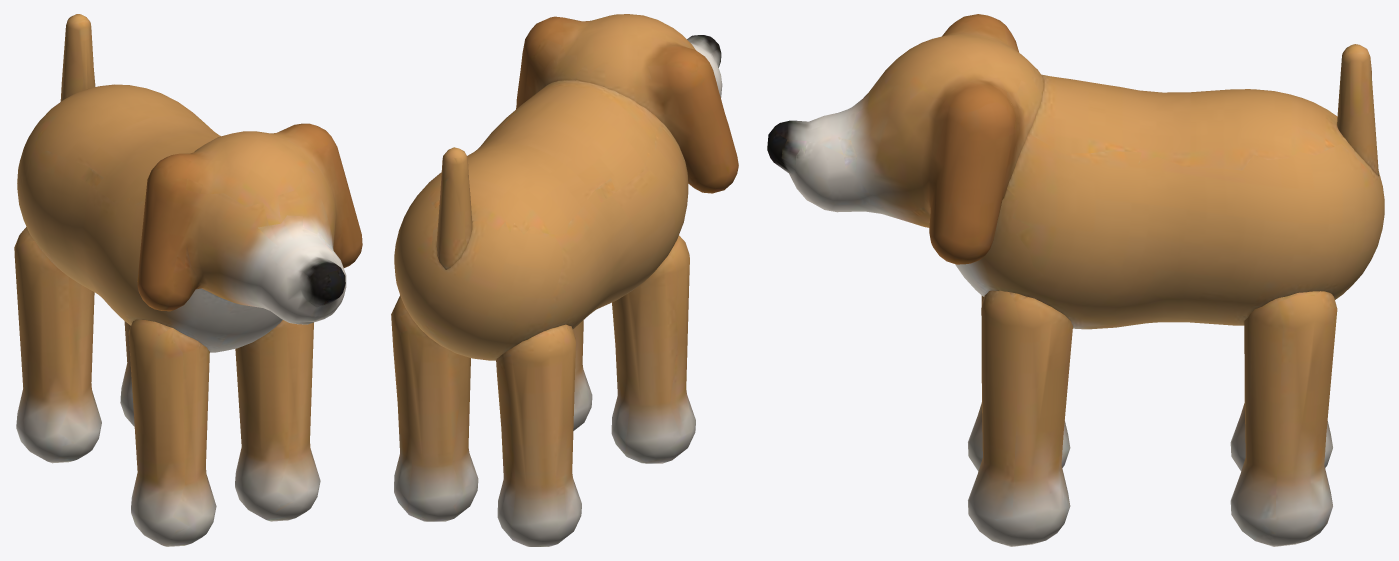
The model's file is animal_dog.glb.
3 renders of one model, left to right at view 1: azimuth 30°, elevation 25°; view 2: azimuth 150°, elevation 25°; view 3: azimuth 270°, elevation 25°, orthographic. The views are drawn at different scales.
Parts seen in each view (by area): view 1: head, animal_dog, leg0, leg2, leg1, tail, leg3; view 2: animal_dog, head, leg2, leg0, leg3, tail, leg1; view 3: animal_dog, head, leg3, leg1, tail, leg0, leg2.
Boxes of the visible parts, x1=… form: head: x1=137, y1=123, x2=362, y2=324; animal_dog: x1=17, y1=84, x2=282, y2=352; leg0: x1=128, y1=319, x2=216, y2=546; leg2: x1=14, y1=227, x2=101, y2=463; leg1: x1=235, y1=320, x2=320, y2=521; tail: x1=60, y1=14, x2=95, y2=101; leg3: x1=120, y1=321, x2=134, y2=426; animal_dog: x1=394, y1=80, x2=688, y2=360; head: x1=516, y1=14, x2=738, y2=193; leg2: x1=496, y1=324, x2=581, y2=546; leg0: x1=611, y1=235, x2=695, y2=463; leg3: x1=391, y1=295, x2=478, y2=521; tail: x1=436, y1=147, x2=472, y2=269; leg1: x1=573, y1=320, x2=592, y2=430; animal_dog: x1=955, y1=74, x2=1384, y2=329; head: x1=767, y1=14, x2=1043, y2=264; leg3: x1=1230, y1=291, x2=1337, y2=546; leg1: x1=968, y1=290, x2=1072, y2=546; tail: x1=1337, y1=44, x2=1378, y2=175; leg0: x1=968, y1=295, x2=1070, y2=471; leg2: x1=1230, y1=403, x2=1332, y2=471.
Bounding box in the file's own units: 0.1759 × 0.3147 × 0.3759.
Materials: 1 (1 with a texture image).
